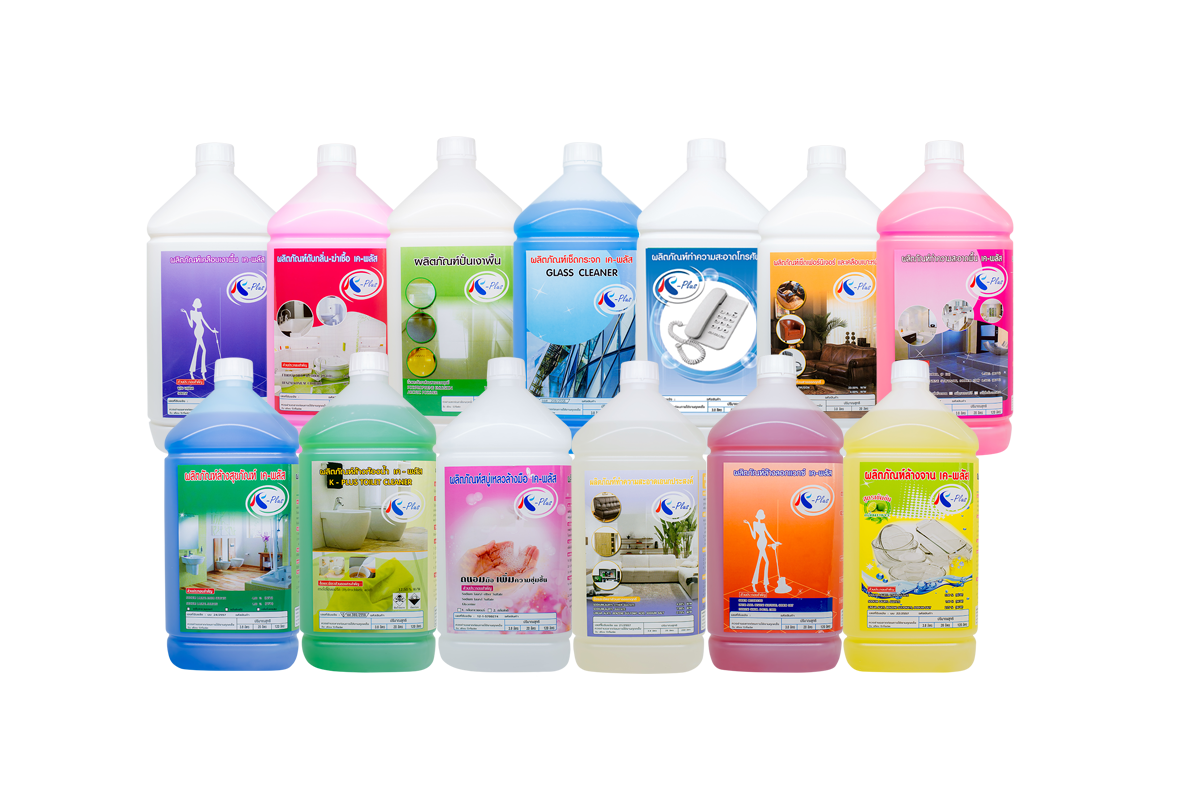Cleaning_solution: (295, 349, 439, 679), (873, 135, 1018, 457), (161, 354, 302, 677), (842, 359, 983, 680), (436, 351, 574, 677), (707, 352, 844, 678), (570, 356, 707, 679), (142, 136, 268, 453), (510, 136, 642, 429), (383, 131, 513, 425), (631, 139, 763, 428), (263, 137, 394, 428), (753, 138, 880, 425)
